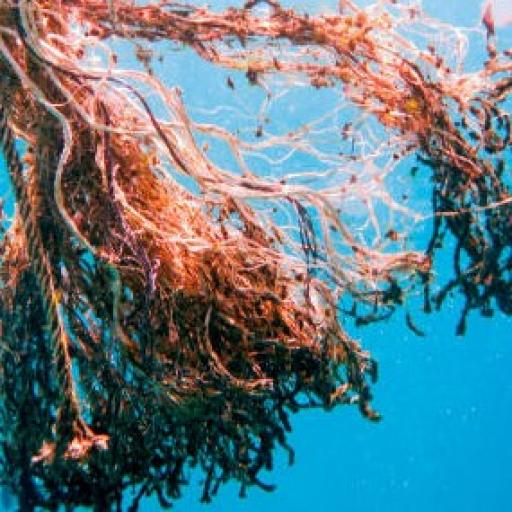net: (4, 0, 512, 512)
